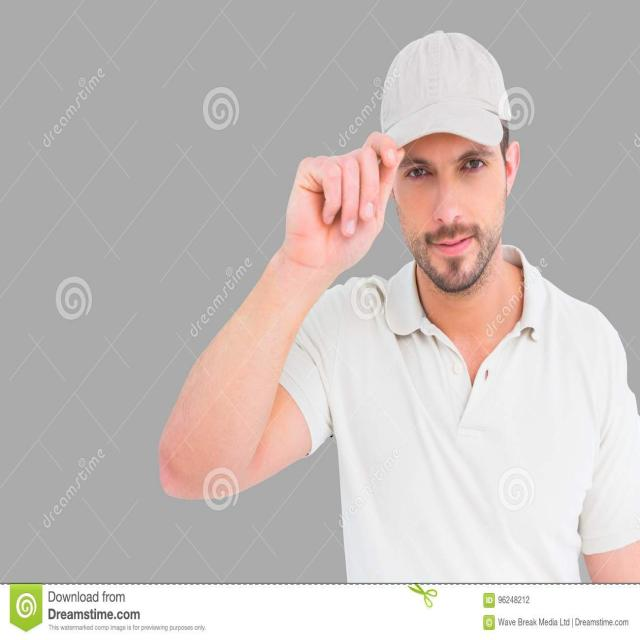3_gorra: (380, 30, 509, 151)
